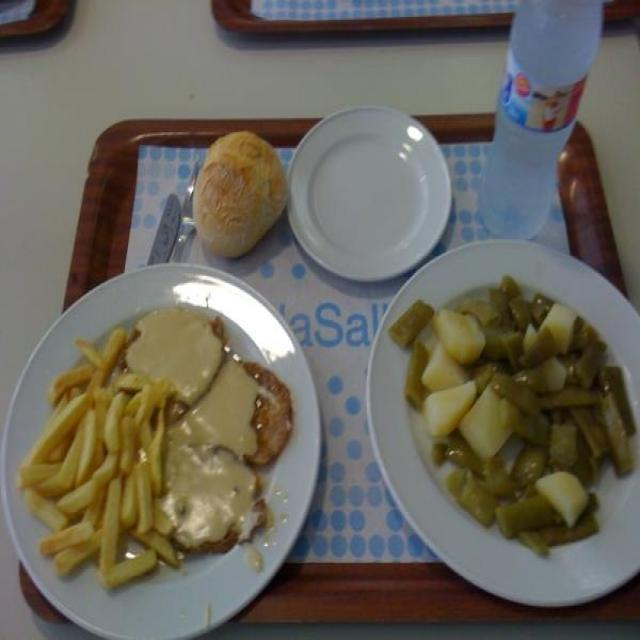French Fries: (20, 316, 174, 578)
